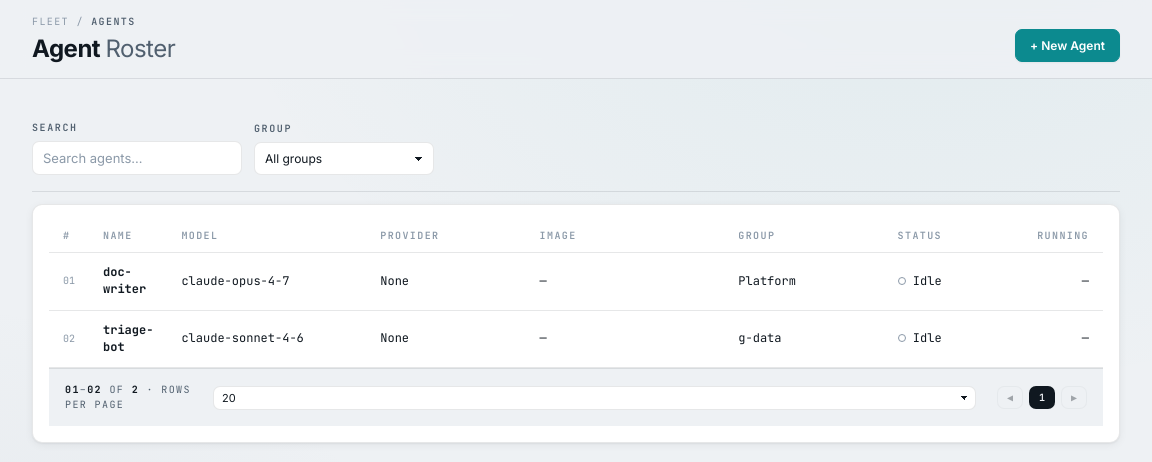
Test: AgentList › typing in the search field fetches with the search param and narrows the roster
expect the text "doc-writer" is shown: met, box [103,264,146,297]
Type "triage" into the field labelled "Search agents" at (137, 158), box [32,141,242,175]
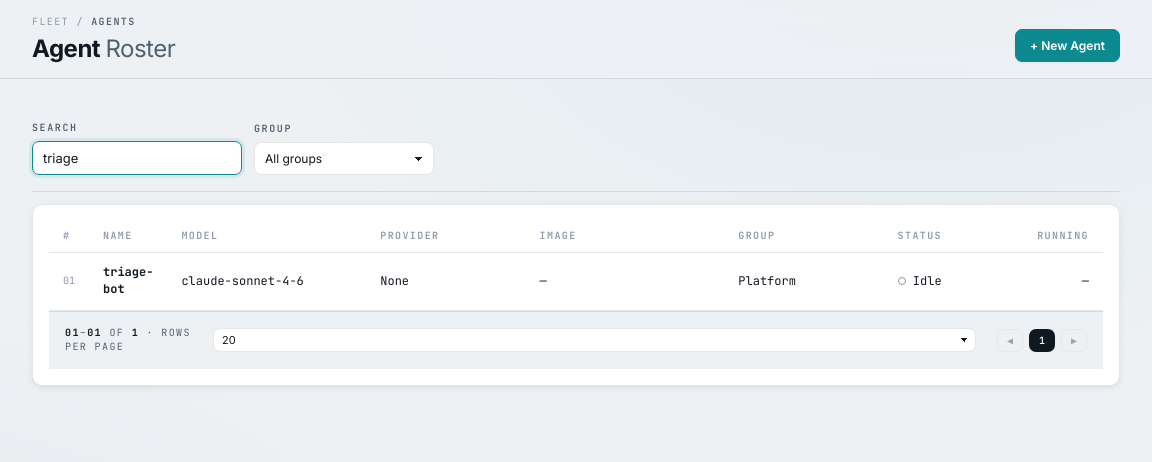
expect the text "triage-bot" is shown: met, box [103,264,153,297]
expect the text "doc-writer" is gone: met
